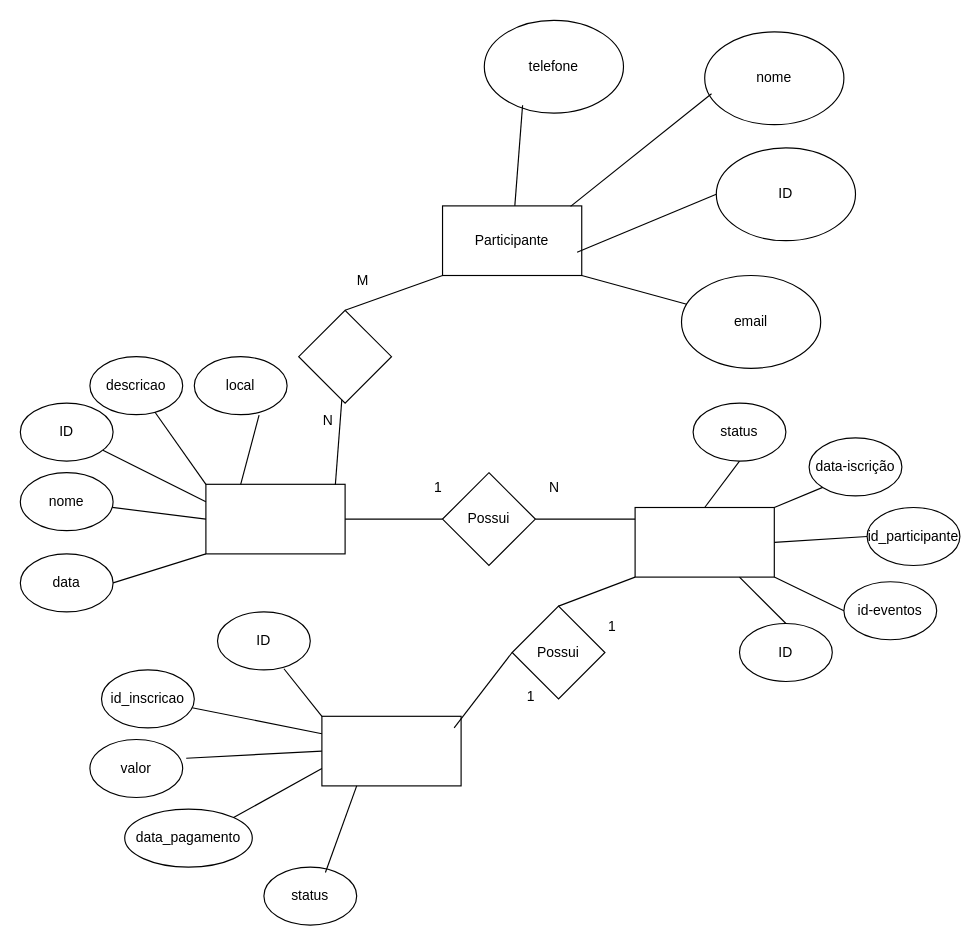
This 980x945 diagram has some shape labels left out. Each missing label, with the centre of its shape:
"Ecento" belongs at (275,518).
"Inscrição" belongs at (704,541).
"Pagamento" belongs at (391,750).
"Participa" belongs at (345,356).
